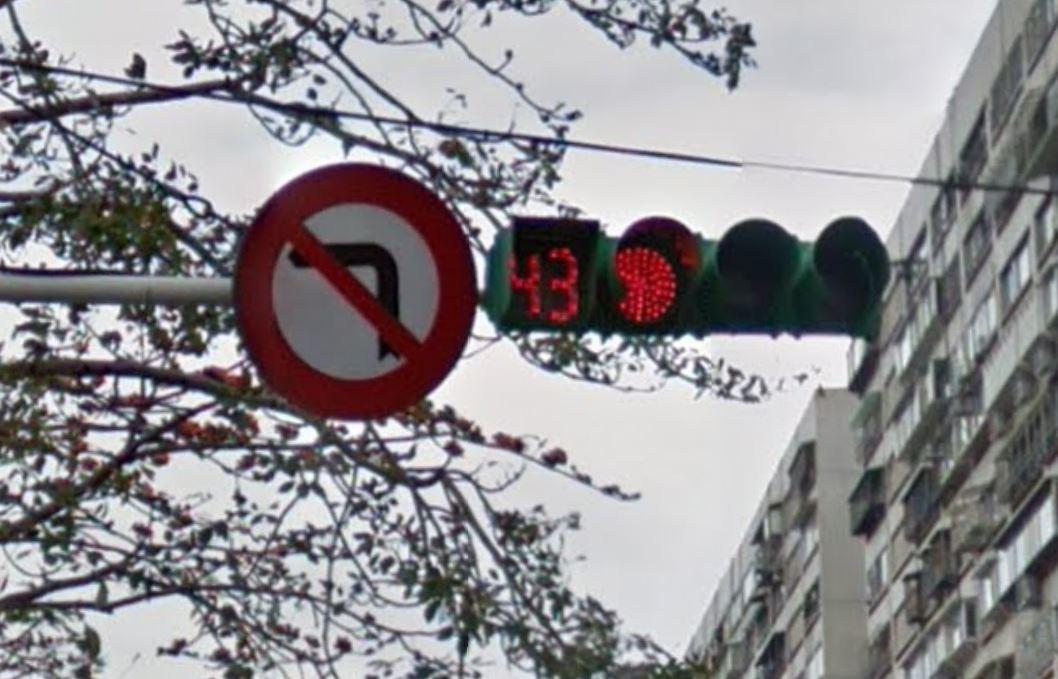no_left_turn: (230, 162, 477, 417)
red_traffic_light: (490, 216, 890, 327)
